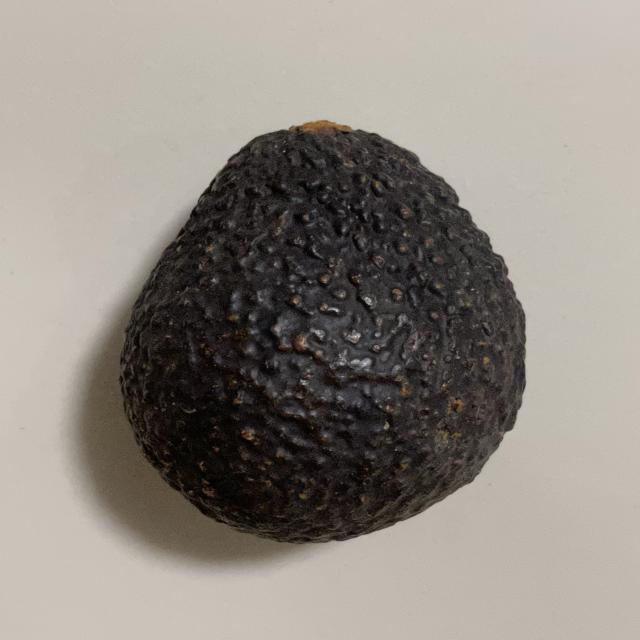Level2: (110, 110, 535, 552)
